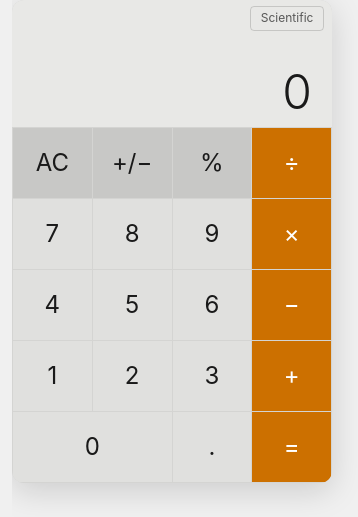
Test: Calculator › arithmetic operations via clicks › performs addition
This screenshot has width=358, height=517.
Click the button "5" at (132, 305), box [93,270,172,340]
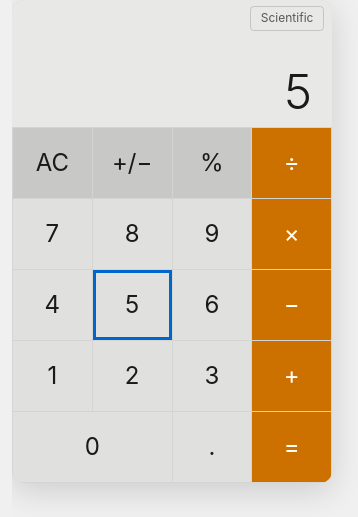
Click the button named "Add" at (292, 376), box [252,341,331,411]
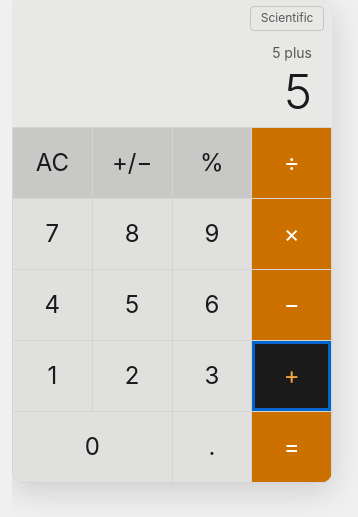
Click the button "3" at (212, 376), box [172,341,251,411]
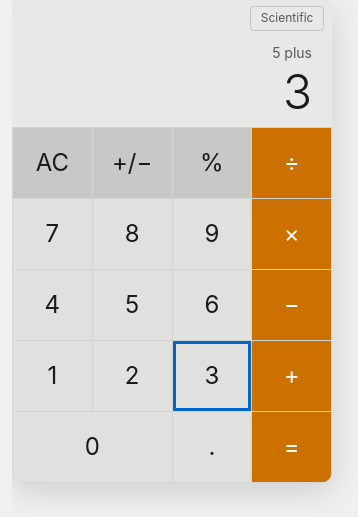
Click the button named "Equals" at (292, 447), box [252,412,331,482]
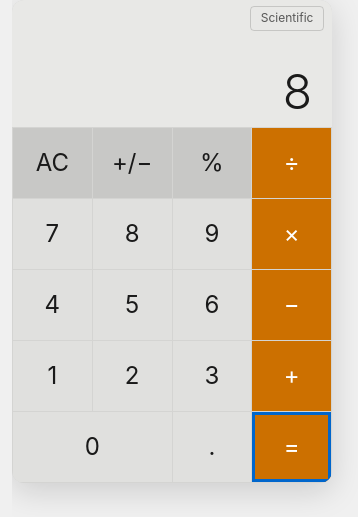
Expected: the text with test id "display" reads "8", [283,62,312,121]
